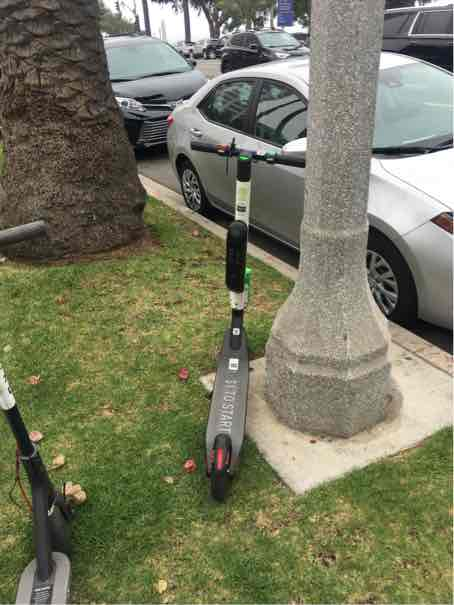scooter: (164, 131, 302, 513)
